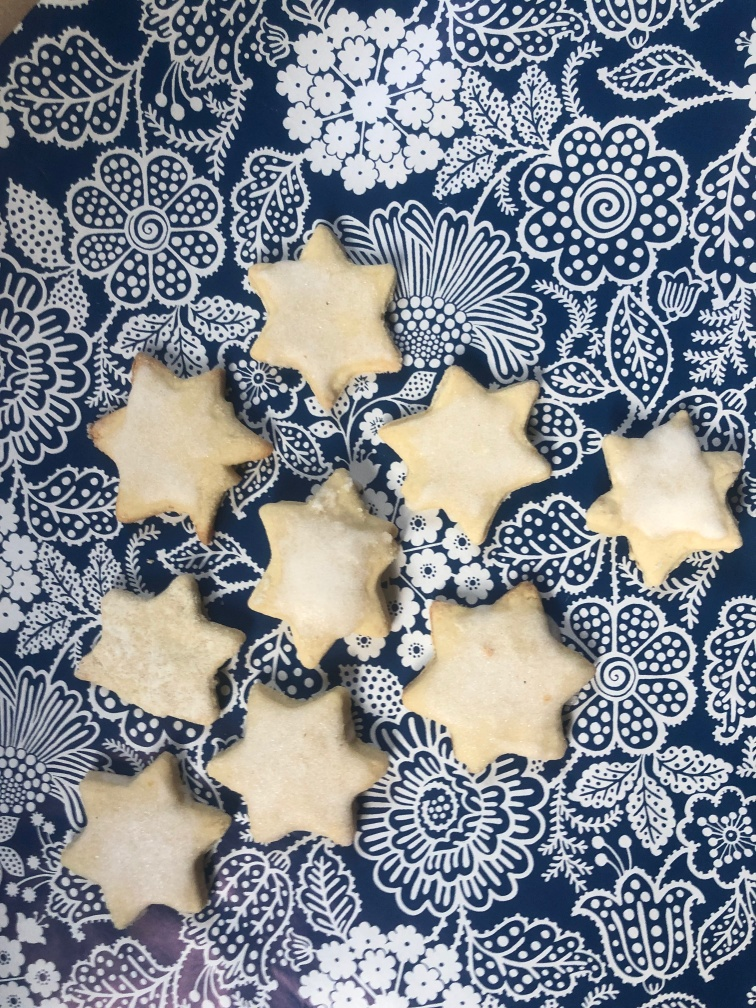star: (401, 579, 590, 778), (399, 582, 590, 774), (85, 351, 268, 542), (55, 749, 229, 931), (246, 467, 399, 668), (381, 367, 555, 543), (244, 223, 405, 409), (207, 680, 383, 849), (584, 412, 746, 590), (70, 572, 238, 728)
